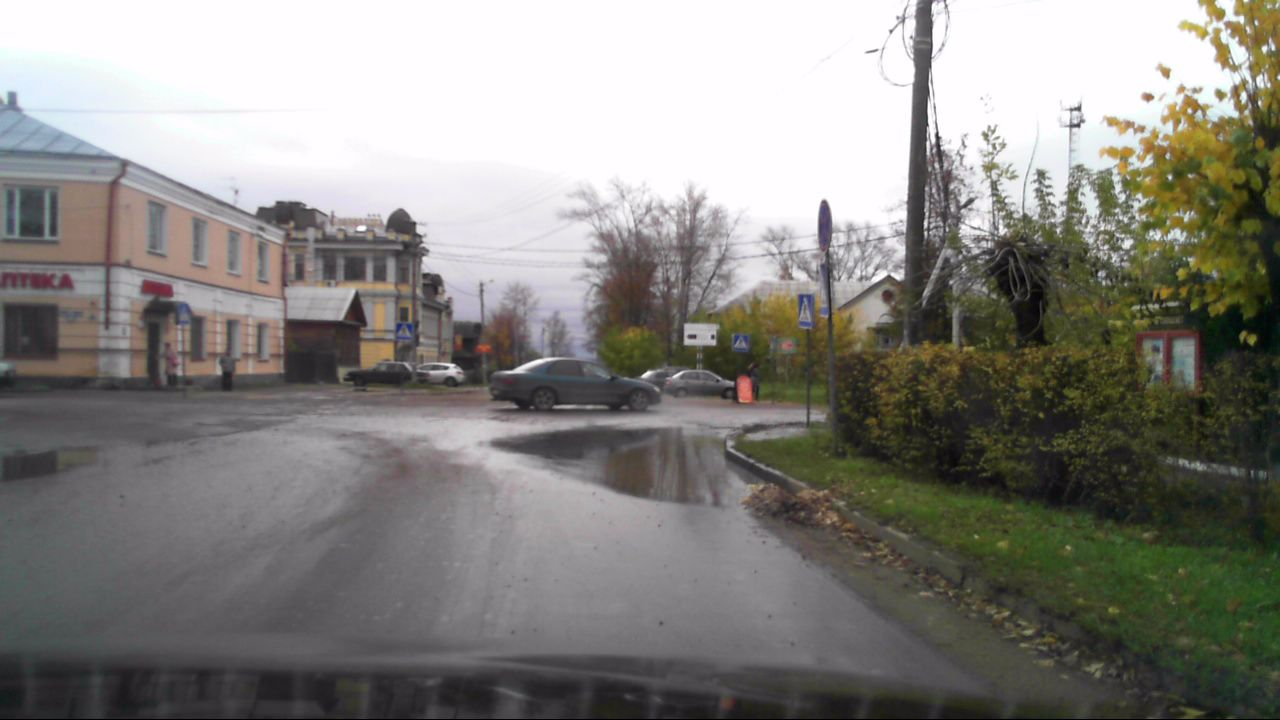No Parking: (817, 199, 833, 253)
